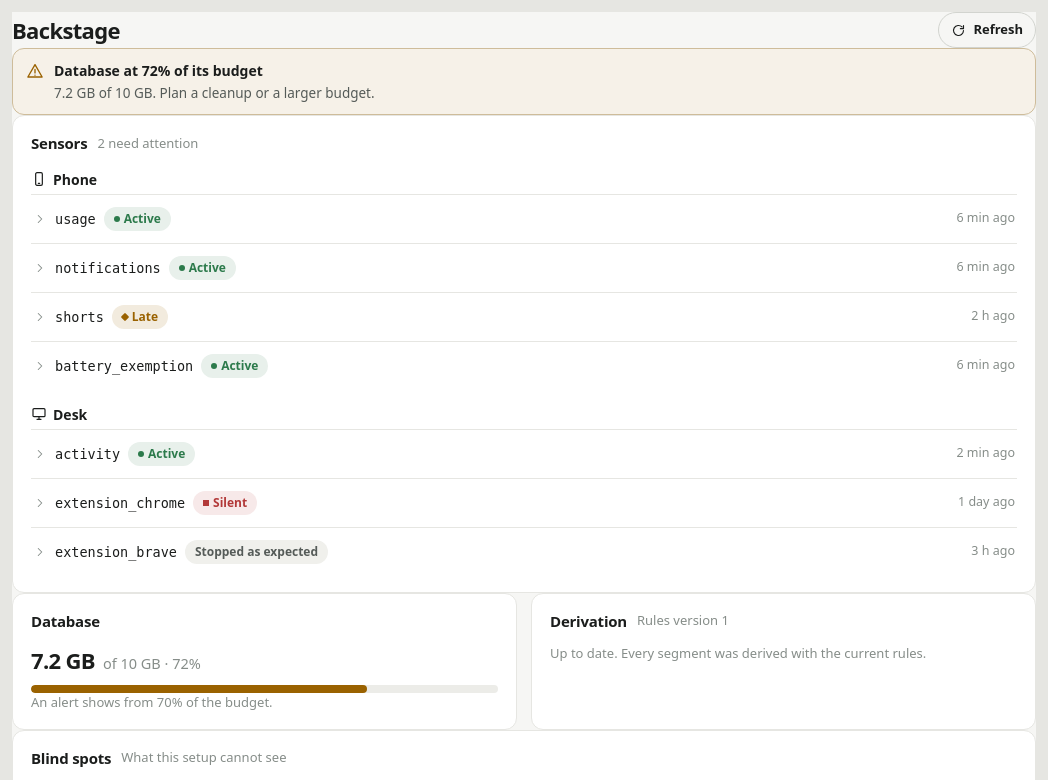
Test: Backstage › expands a row into the device details
Click the text "usage": (75, 219) [55,209,96,229]
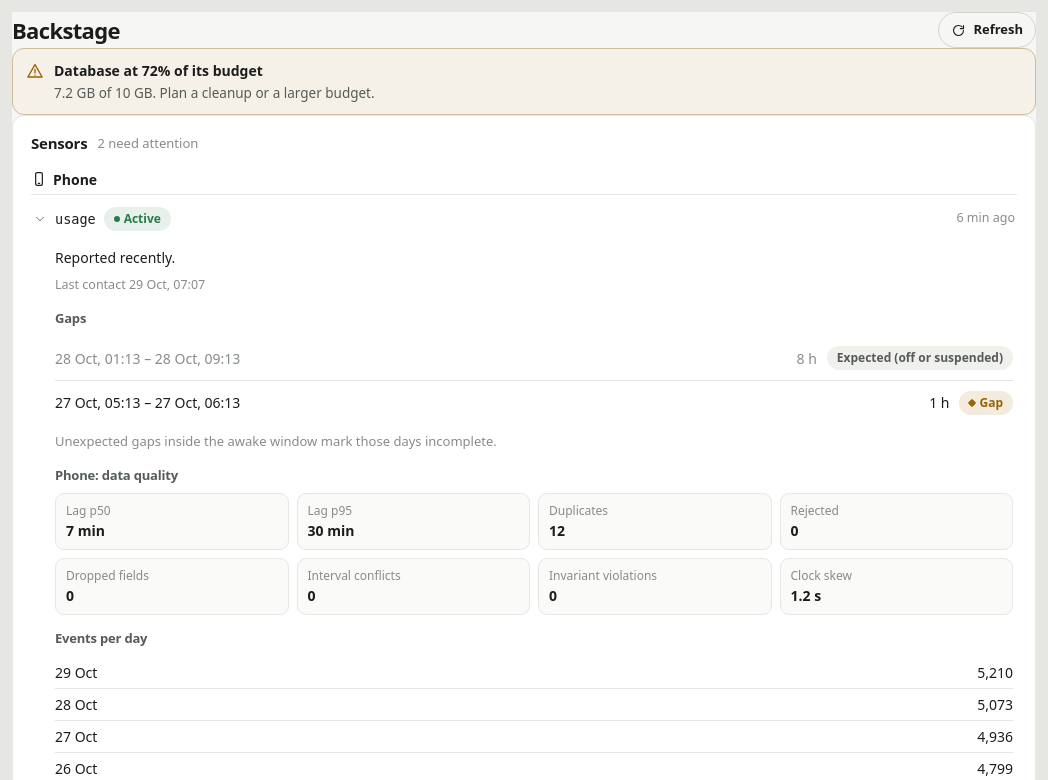
Result: the text "7 min" is shown at [66,521,105,540]
Result: the text "30 min" is shown at [308,521,354,540]
Result: the text "12" is shown at [549,521,565,540]
